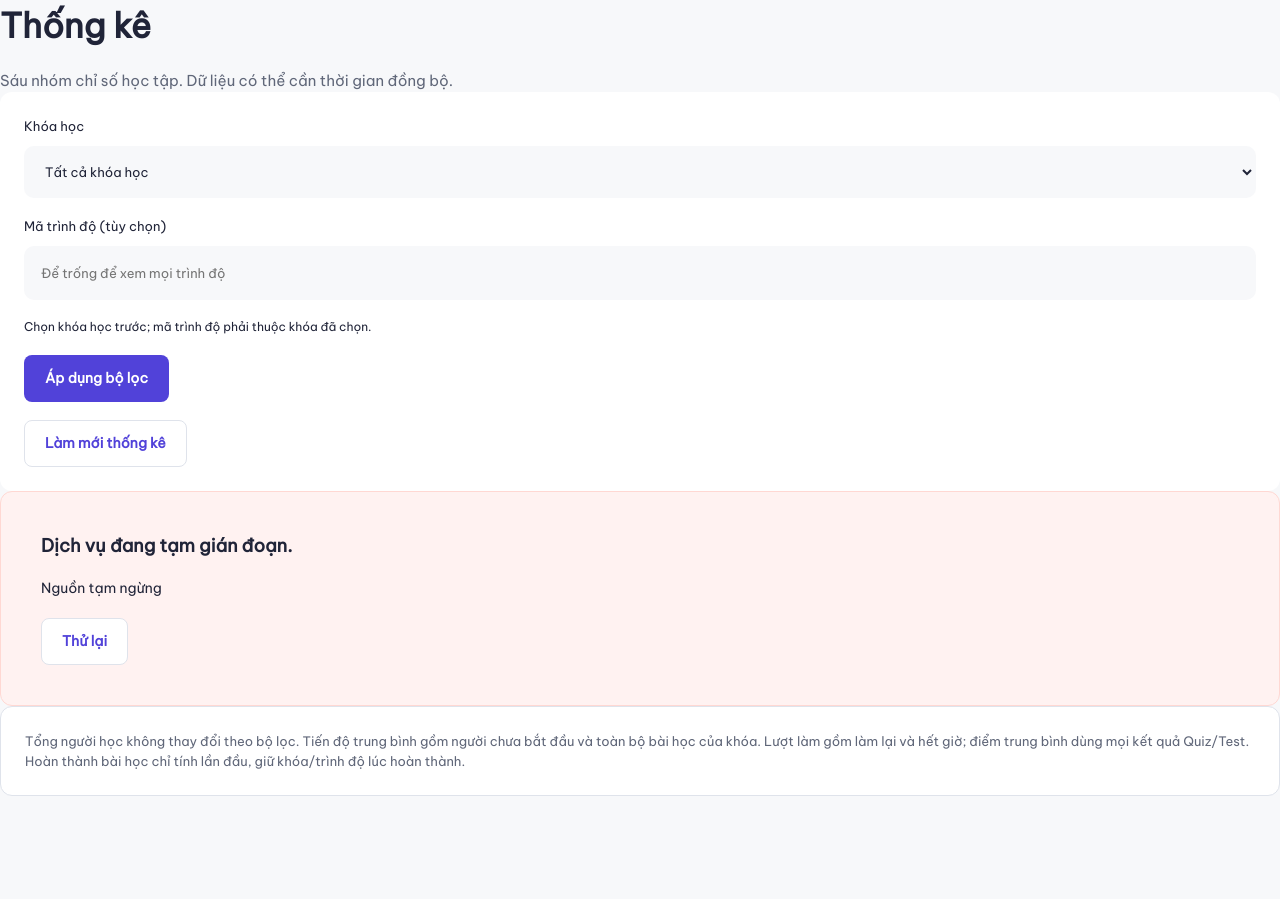
Test: shows missing statistics separately from zero and retries a failed source
Expected: the text "Nguồn tạm ngừng" is shown, [41,578,162,600]
Step 1. Click the button "Thử lại" → (85, 641), box [41,618,128,664]
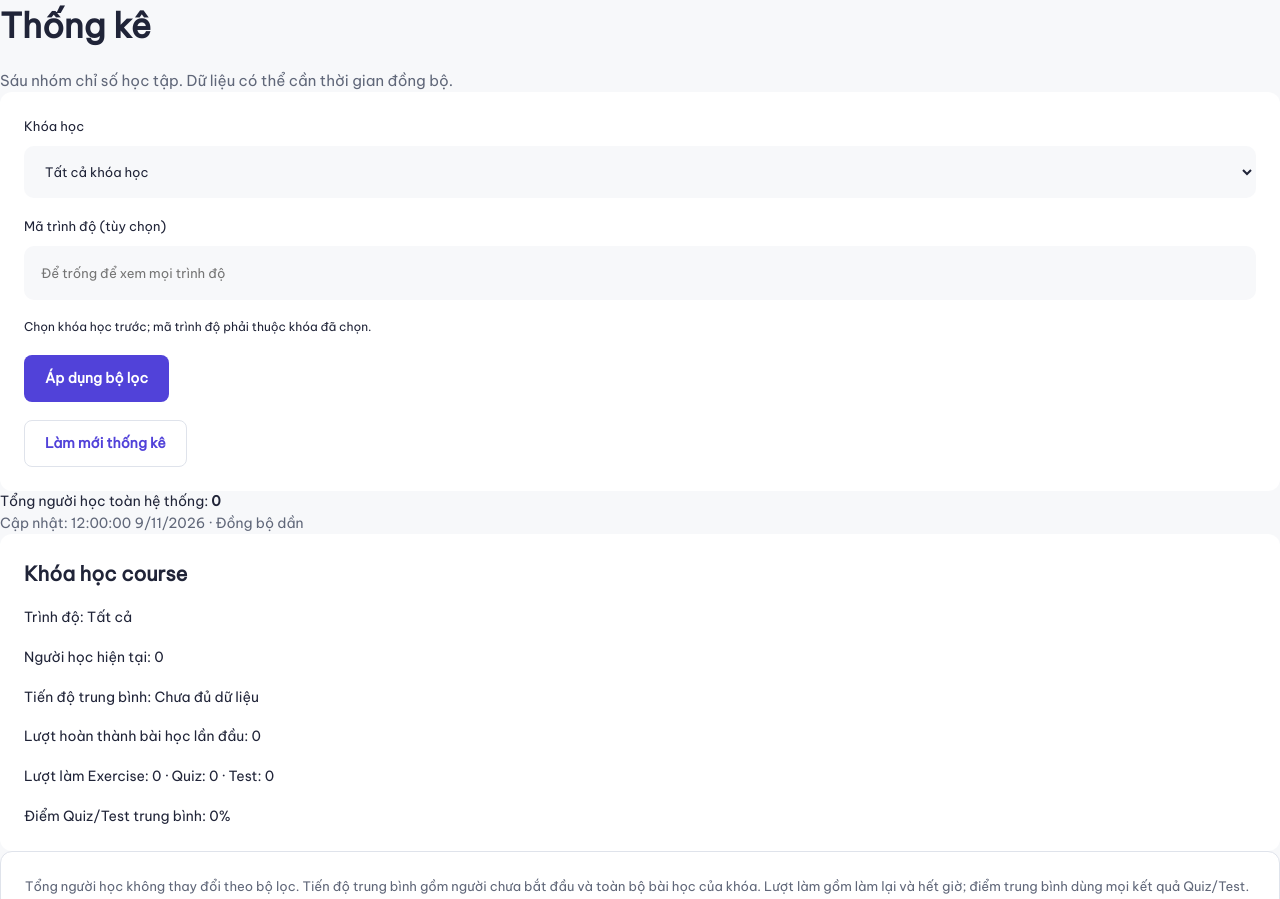
Expected: the text "Tiến độ trung bình: Chưa đủ dữ liệu" is shown, [24,688,259,706]
Expected: the text "Điểm Quiz/Test trung bình: 0%" is shown, [24,807,231,825]
